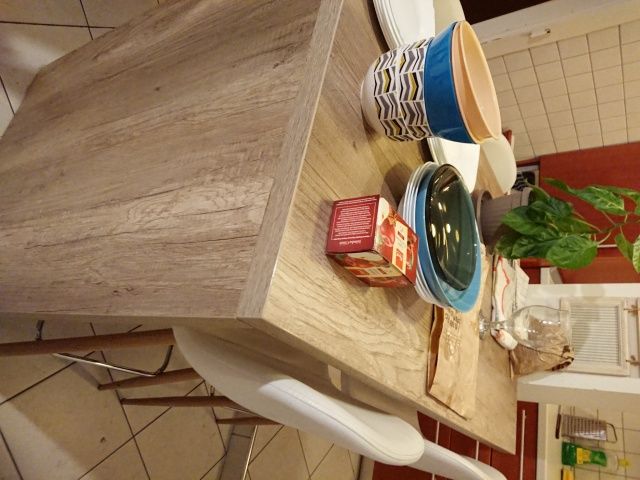Franck Apple Cinnamon Tea 60g: (322, 191, 422, 291)
